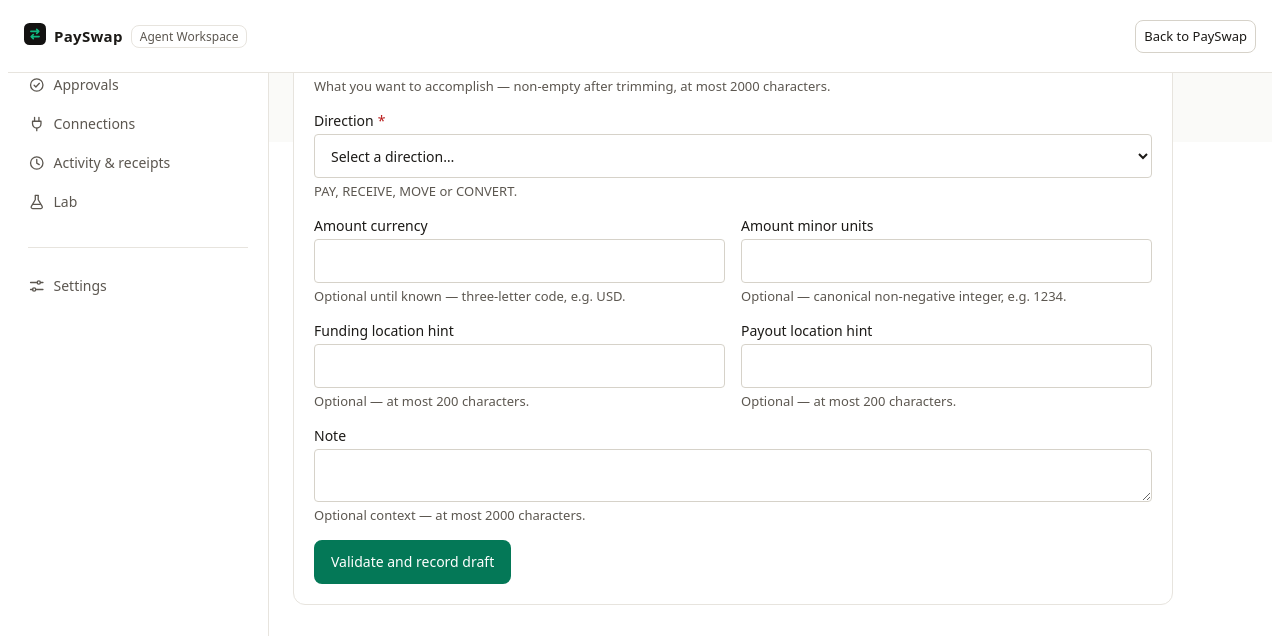
the missions section: creation intake → validation → review → intent › renders findings VERBATIM before recording; an invalid intake never reaches the store
(page scrolled)
Click the button "Validate and record draft".
click(413, 562)  # box [314,540,511,584]
(page scrolled)
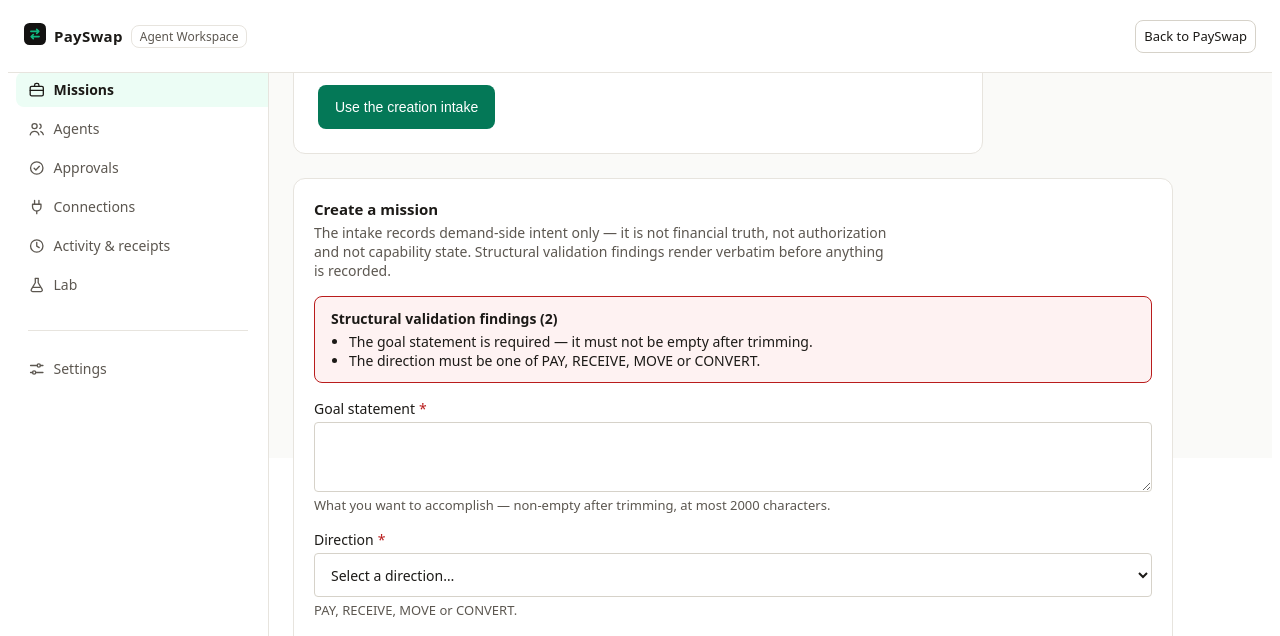
Check: the list item "The goal statement is required — it must not be empty after trimming." is shown, box [349,332,813,351]
Check: the list item "The direction must be one of PAY, RECEIVE, MOVE or CONVERT." is shown, box [349,351,760,370]
